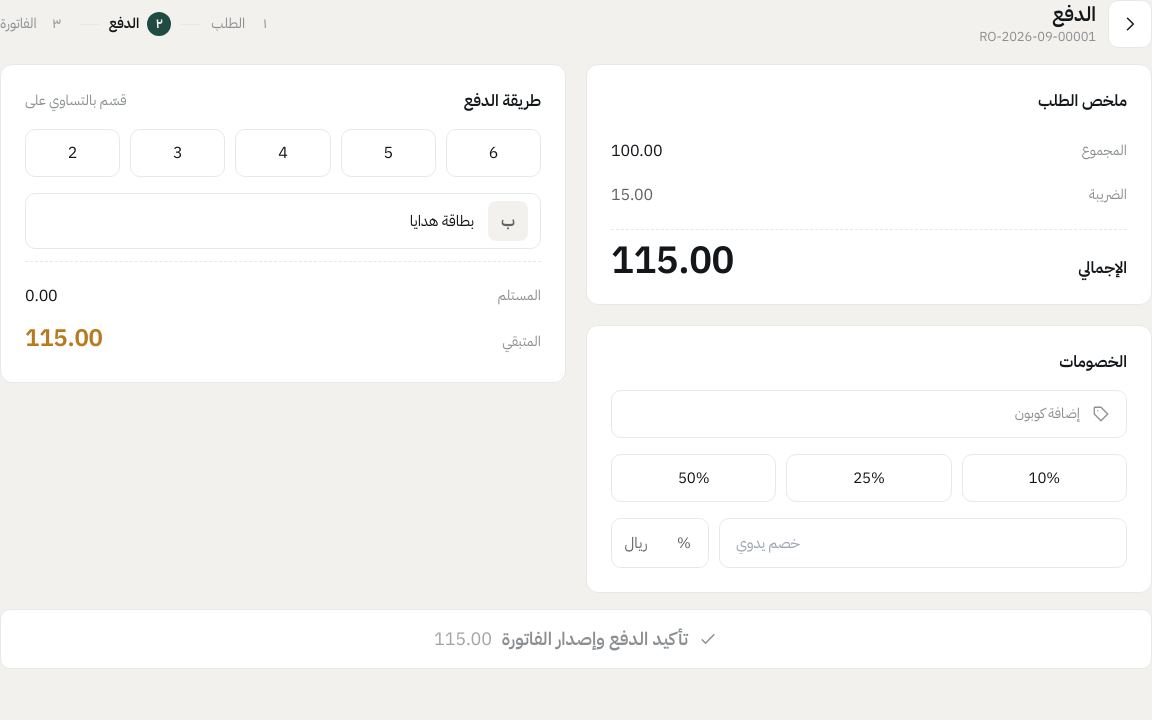
paying with a gift card › asks which card before offering an amount to take
This screenshot has width=1152, height=720.
Click the button "ب بطاقة هدايا". click: coordinates (508, 221)
box: [25, 193, 541, 249]
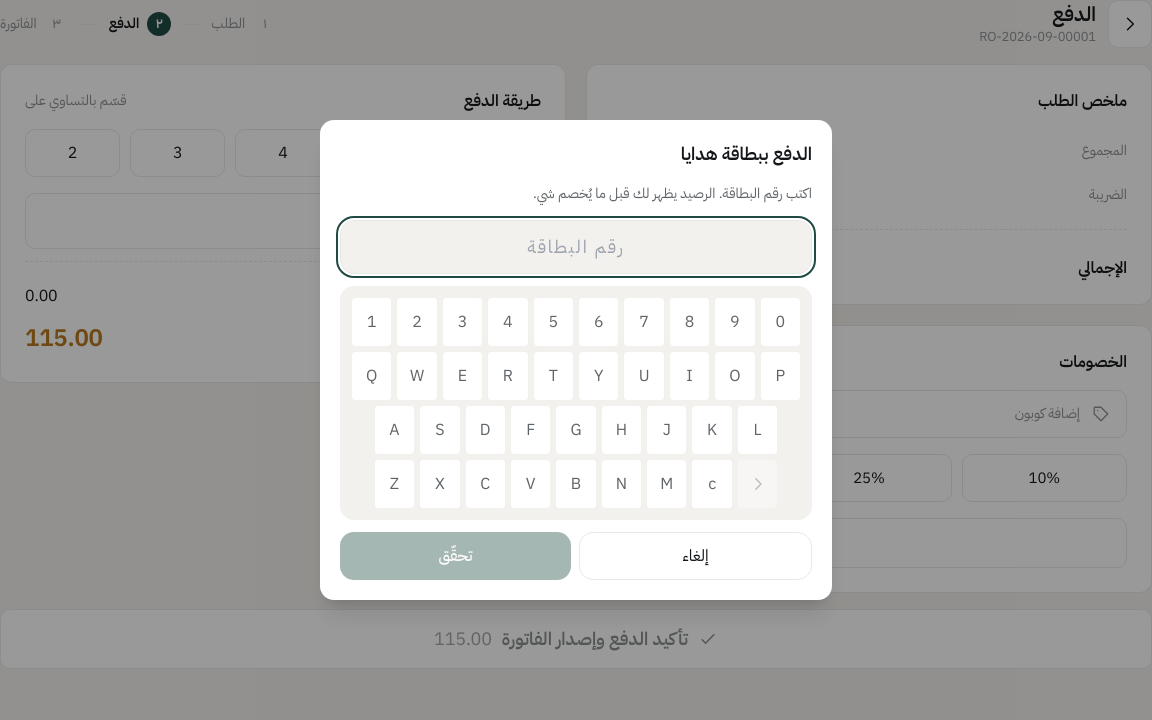
Expected: the text "رقم البطاقة" is shown, [533, 183, 812, 204]
